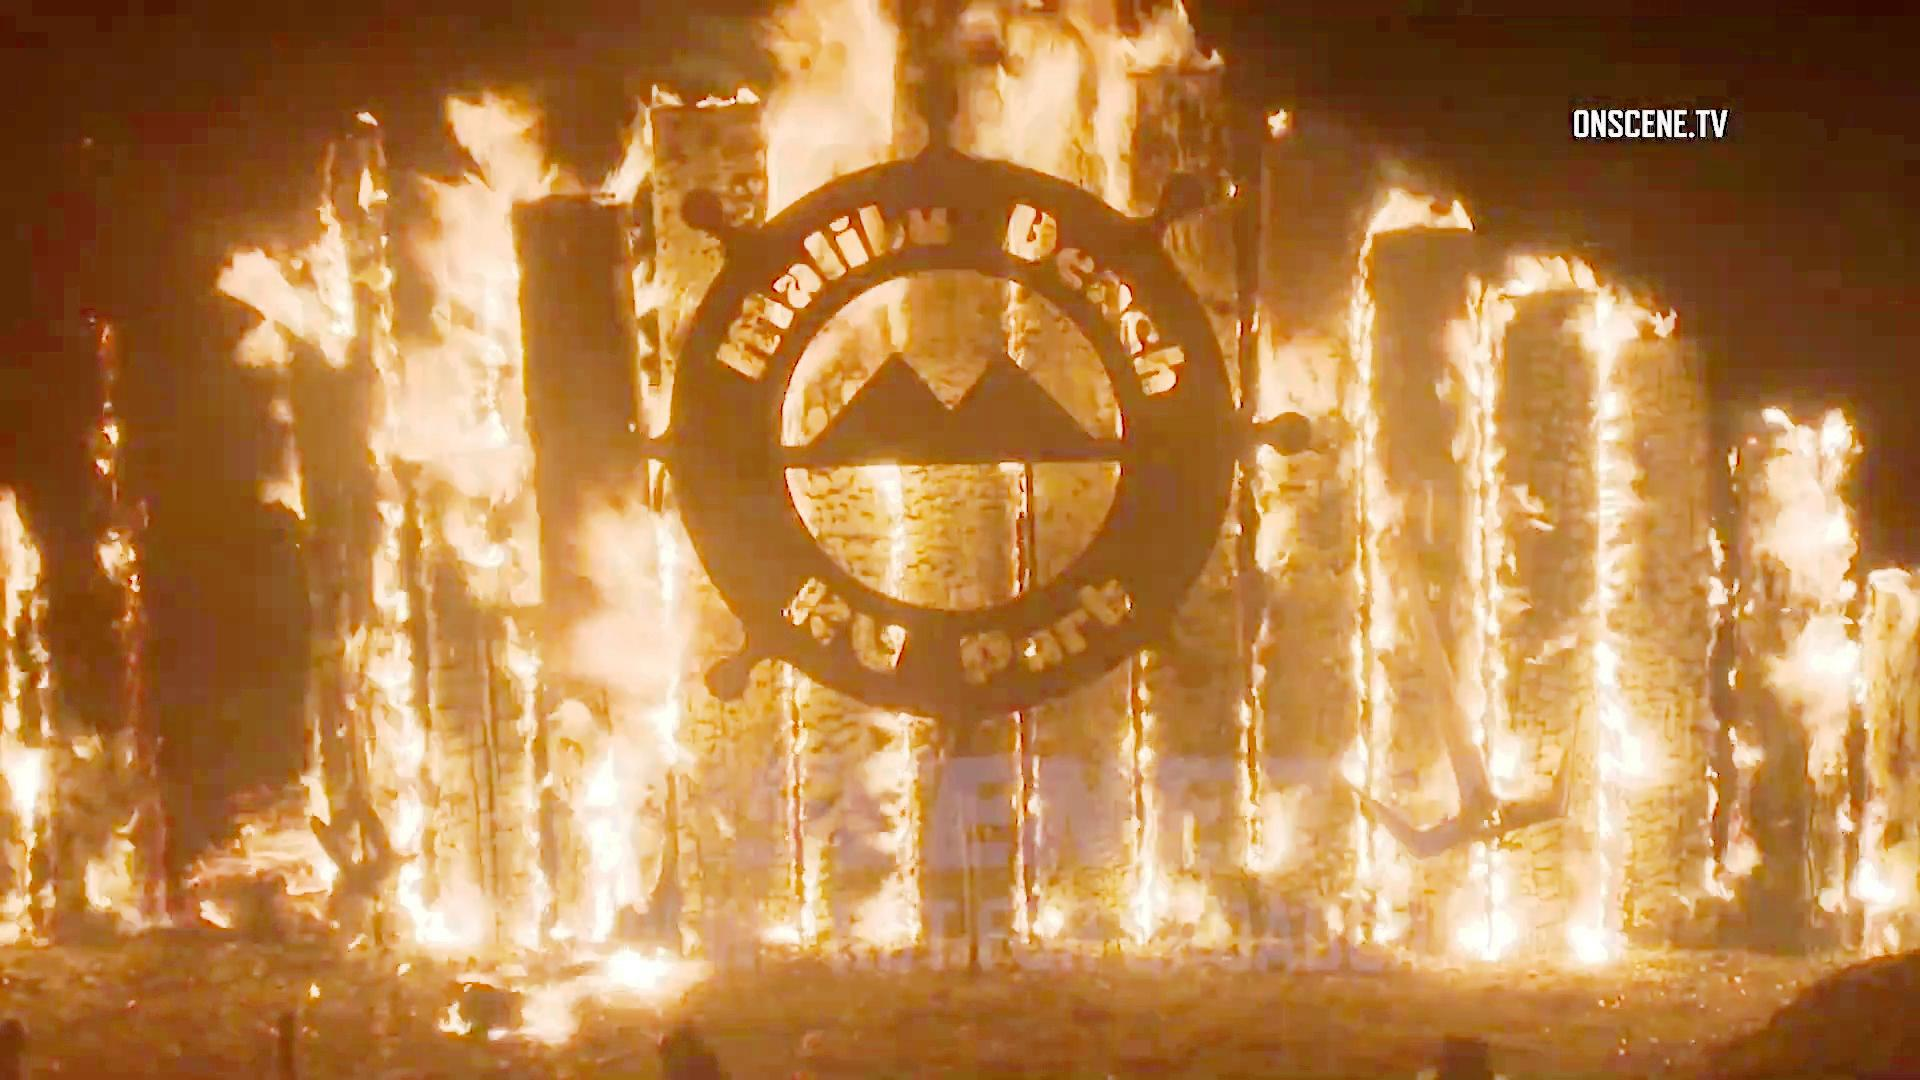fire: (1386, 262, 1920, 939), (245, 105, 683, 893)
